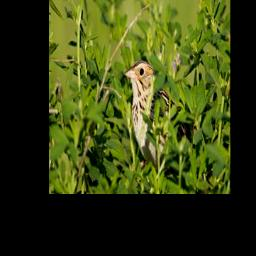Sparrow: (123, 59, 196, 179)
